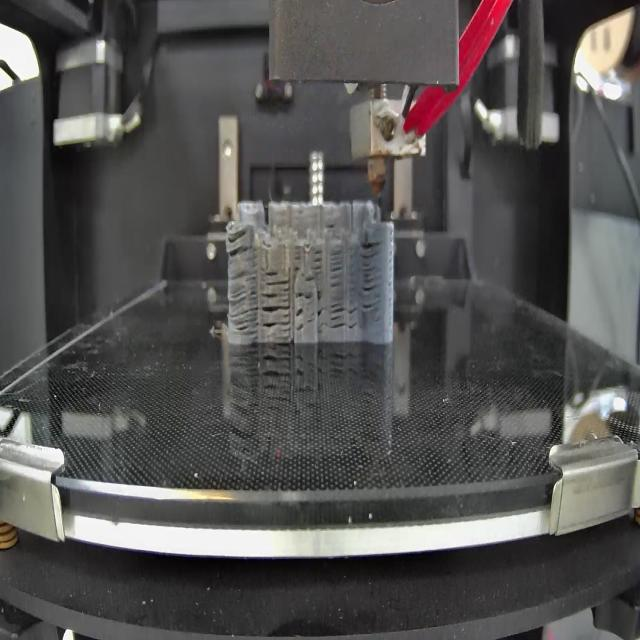cracks: (262, 272, 292, 342), (230, 269, 261, 335), (362, 240, 382, 309), (295, 288, 326, 332), (330, 302, 359, 330), (227, 229, 253, 259), (330, 252, 344, 290), (389, 228, 394, 333), (293, 244, 303, 276), (313, 250, 322, 270), (323, 222, 337, 231), (306, 275, 314, 285)
